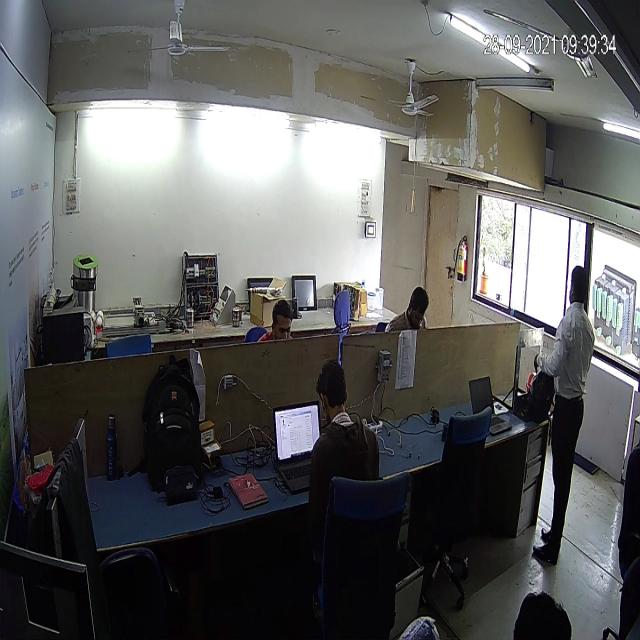adult: (533, 246, 599, 576)
